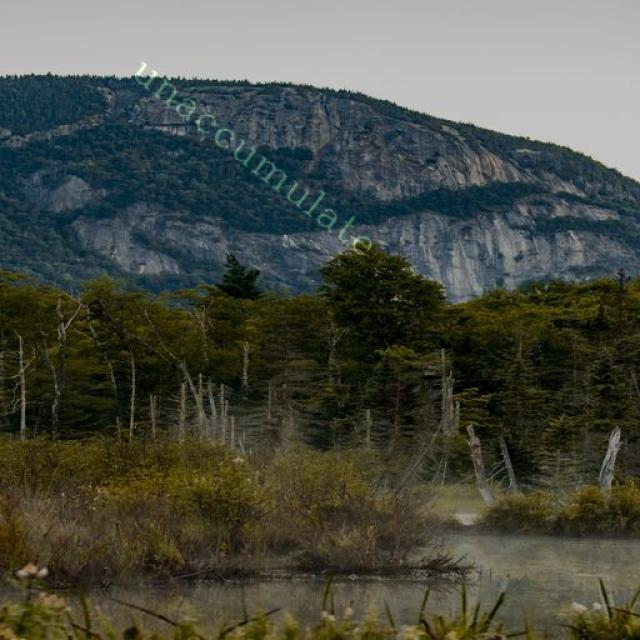watermark: (120, 45, 392, 266)
